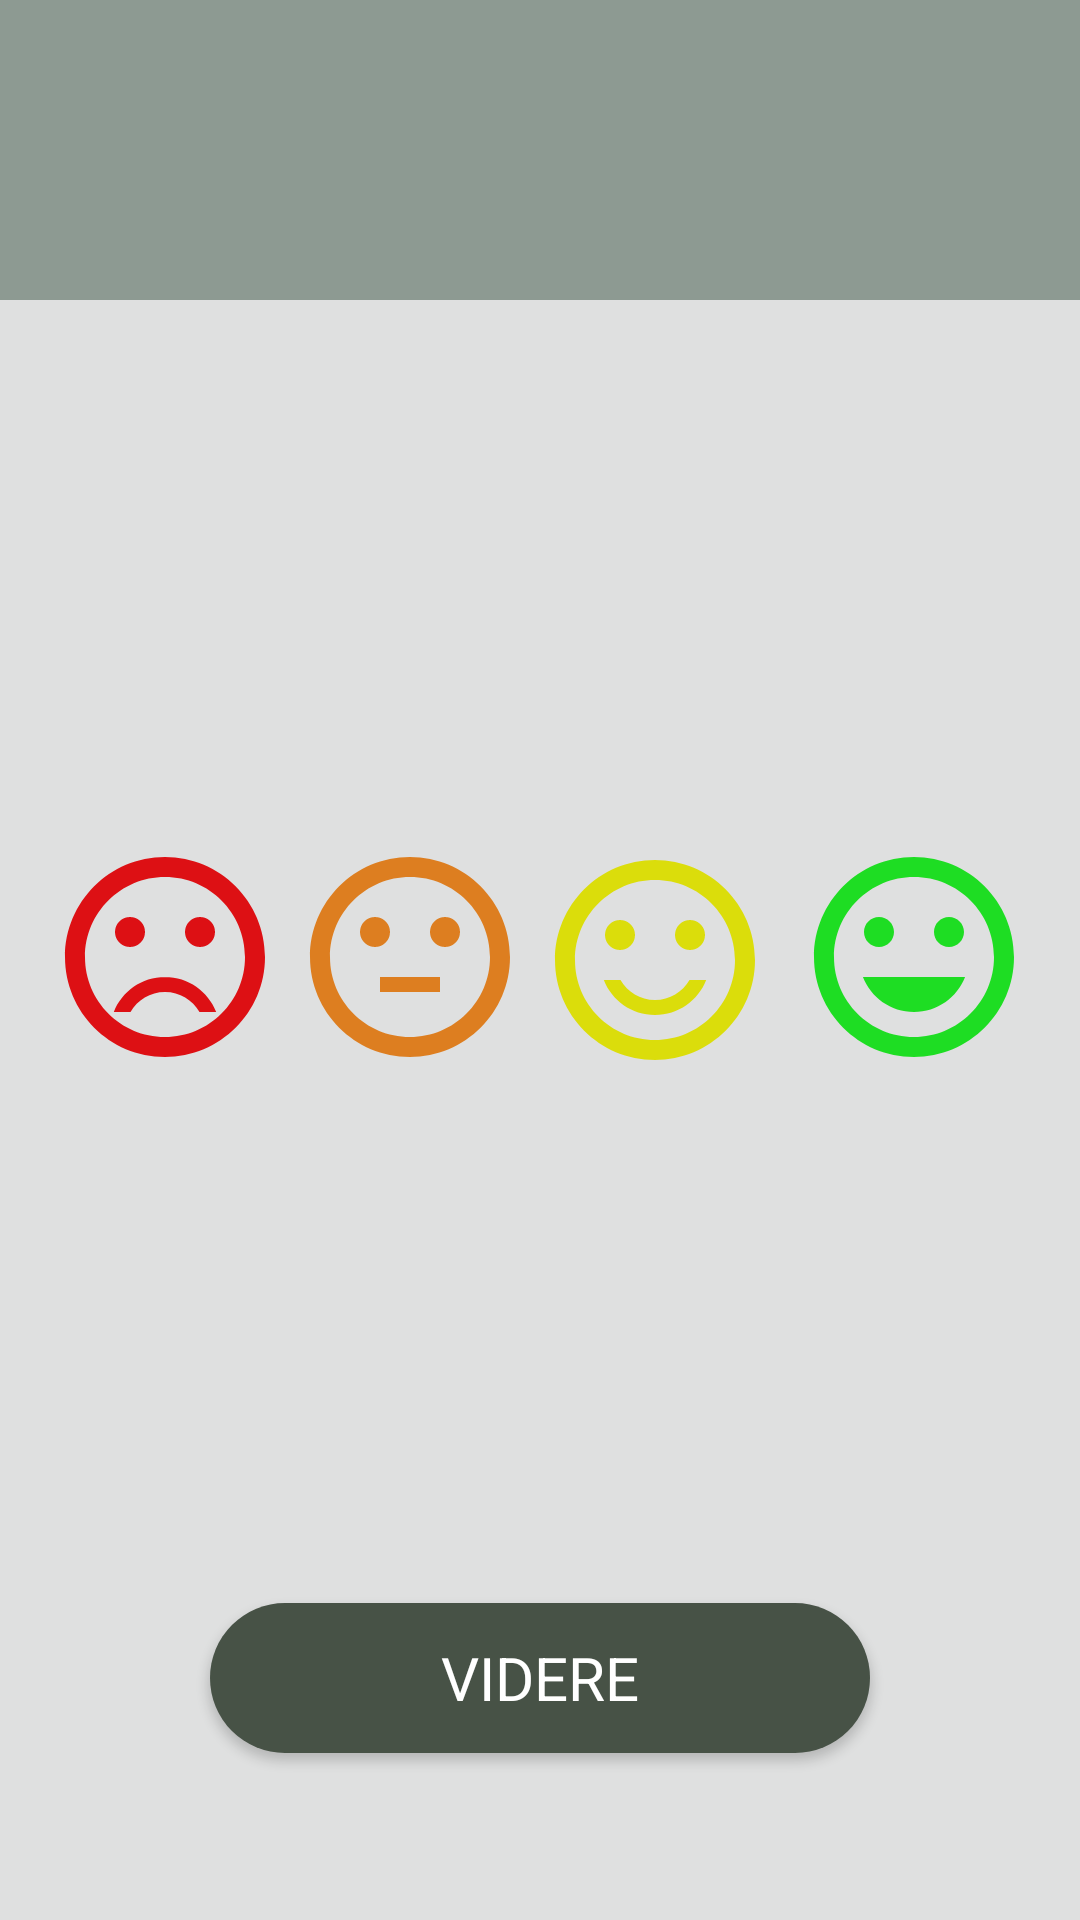

Icons on this 1080 × 1920 Android screen, each with its box as bbox=[x1, y1, x2, y2]:
smiley dissatisfied: bbox=[65, 857, 265, 1057]
smiley neutral: bbox=[310, 857, 510, 1057]
